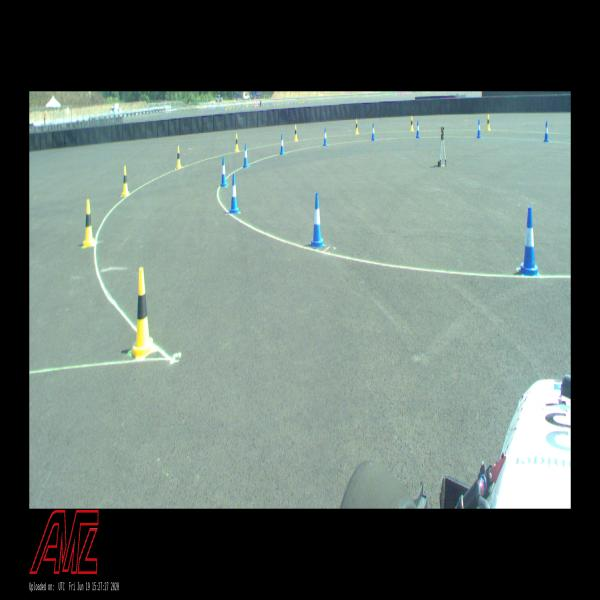blue_cone: (519, 207, 540, 276), (310, 192, 325, 248), (230, 173, 239, 214), (220, 156, 228, 186), (243, 144, 249, 168), (544, 122, 549, 141), (280, 134, 284, 154), (477, 119, 481, 138), (416, 120, 420, 138), (371, 123, 375, 140), (324, 128, 327, 146)
yellow_cone: (130, 267, 155, 359), (83, 200, 95, 247), (122, 166, 129, 196), (176, 146, 182, 168), (235, 134, 239, 152), (294, 125, 298, 141), (355, 119, 359, 134), (410, 116, 414, 131), (487, 115, 491, 130)
